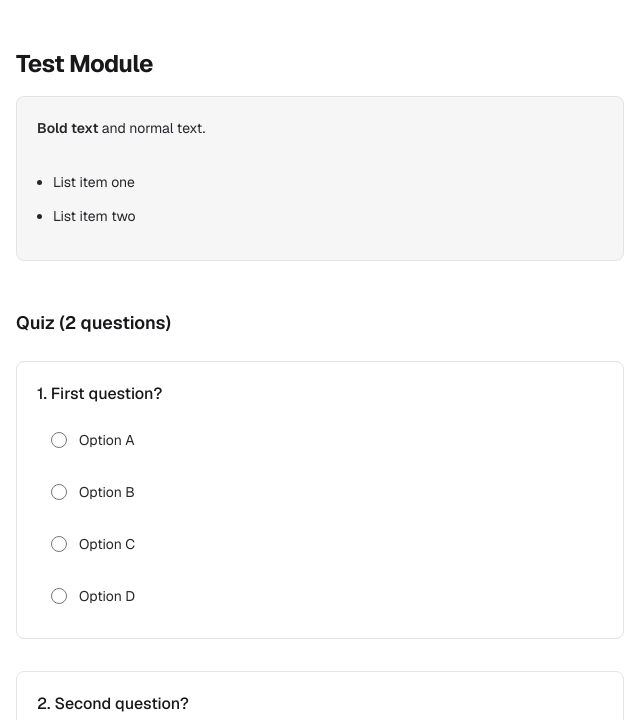
ModuleQuiz › given submitted quiz with wrong answer, should show correct answer hint
Click the radio button labelled "Option B". click: [59, 492]
box: 51,484 -> 67,500
(page scrolled)
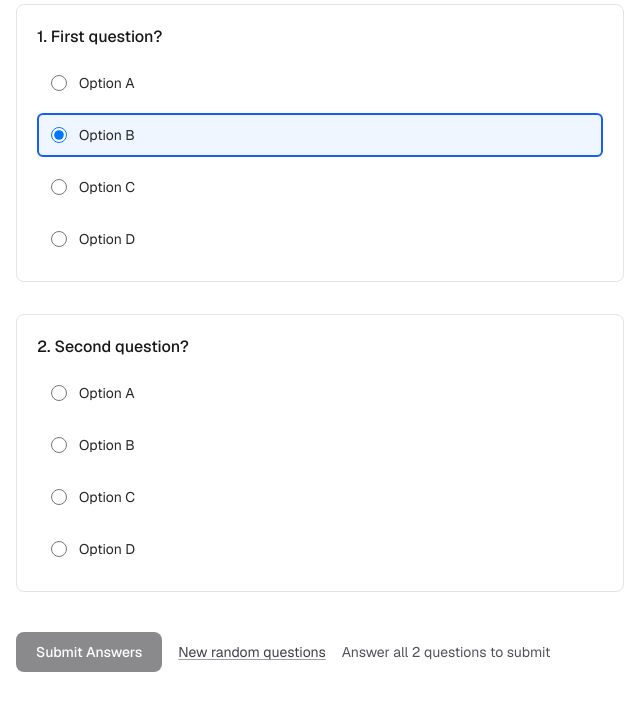
Click the radio button labelled "Option C" below "Second question?". click: [59, 497]
box: 51,489 -> 67,505
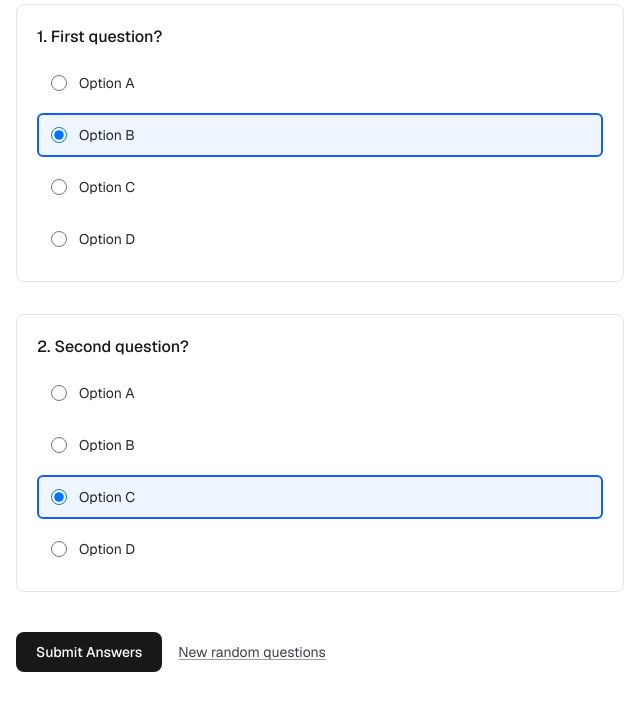
Click the button "Submit Answers". click: [89, 652]
box: 16,632 -> 162,672
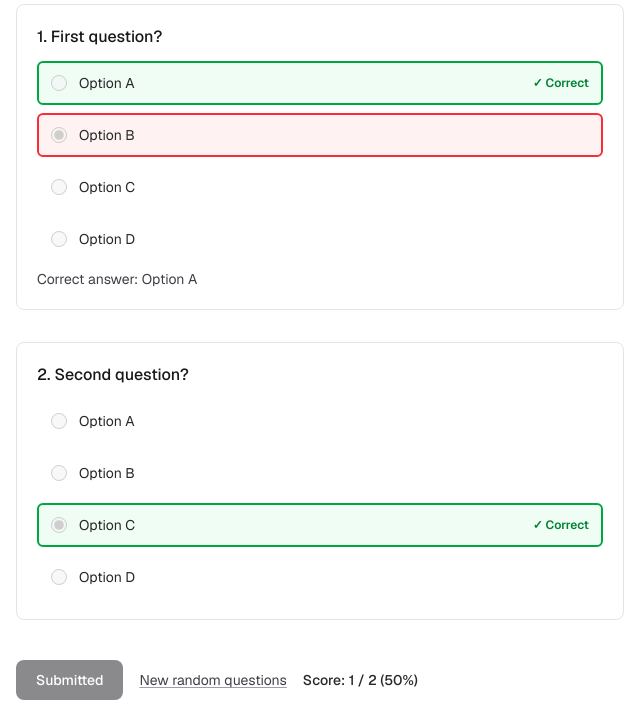
expect the text "Correct answer: Option A" is shown: met, box 37,270 -> 197,288
